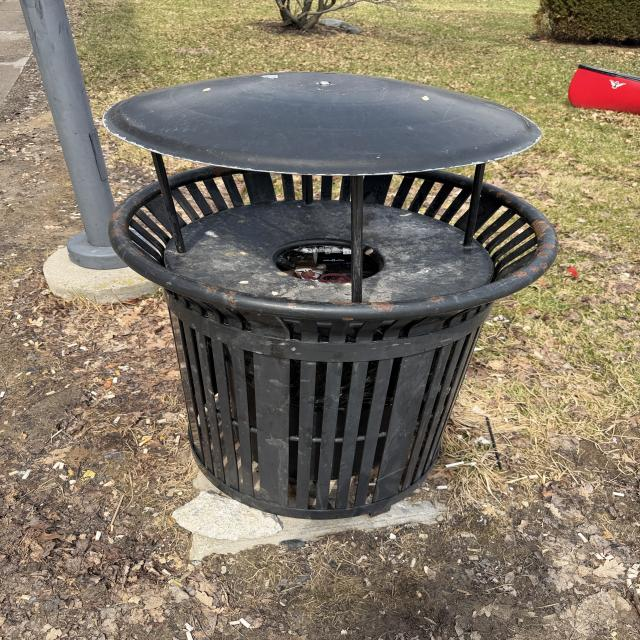Dustbin: (106, 72, 556, 521)
